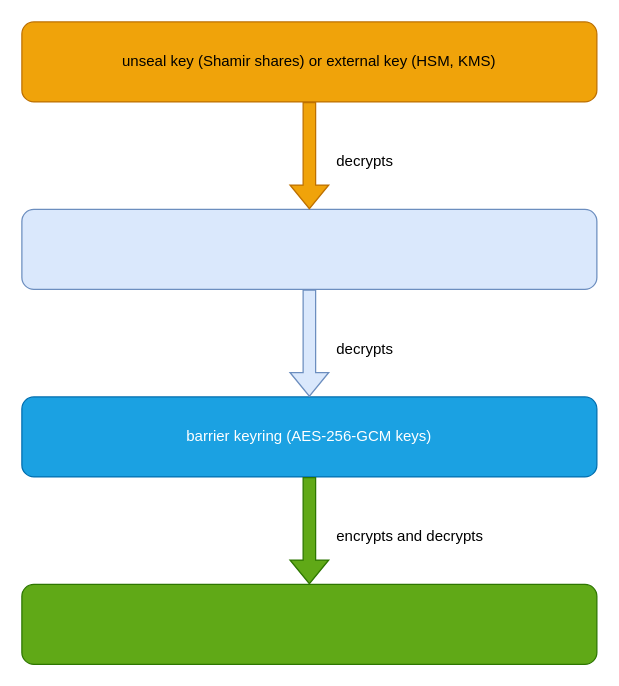
Some shapes in this 619 by 686 pixel diagram are drawn without their labels. The centre of each missing label's shape, as x and y in pixels:
all data in the storage backend: (x=309, y=623)
root key (stored encrypted in storage): (x=309, y=248)
